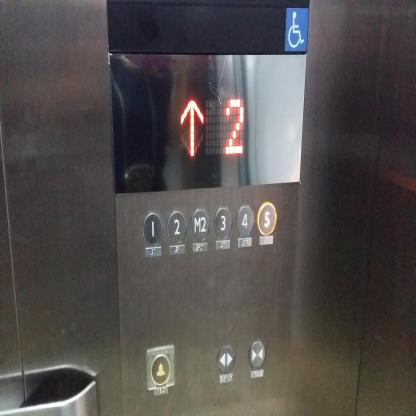1: (141, 210, 164, 246)
2: (166, 209, 186, 245)
3: (212, 206, 233, 240)
4: (236, 204, 255, 238)
5: (257, 200, 278, 237)
M2: (190, 206, 210, 242)
alarm: (146, 343, 176, 391)
close: (248, 340, 266, 370)
led: (108, 49, 307, 195), (284, 7, 310, 55)
open: (216, 344, 235, 373)
